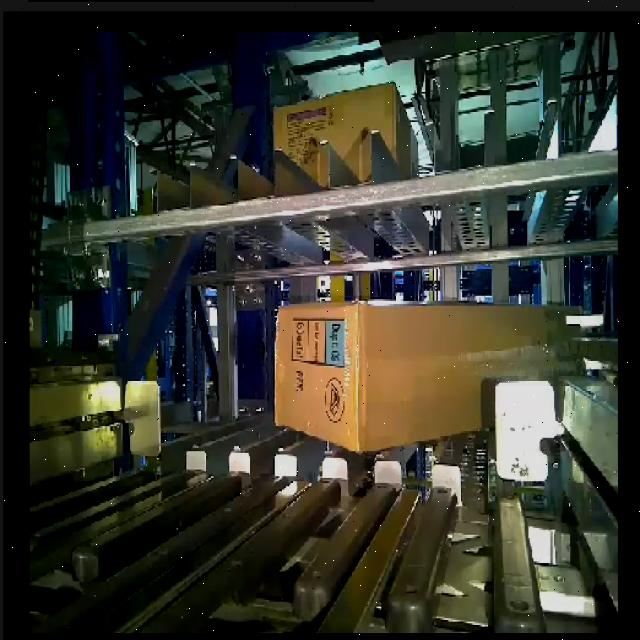box: (360, 302, 582, 459)
